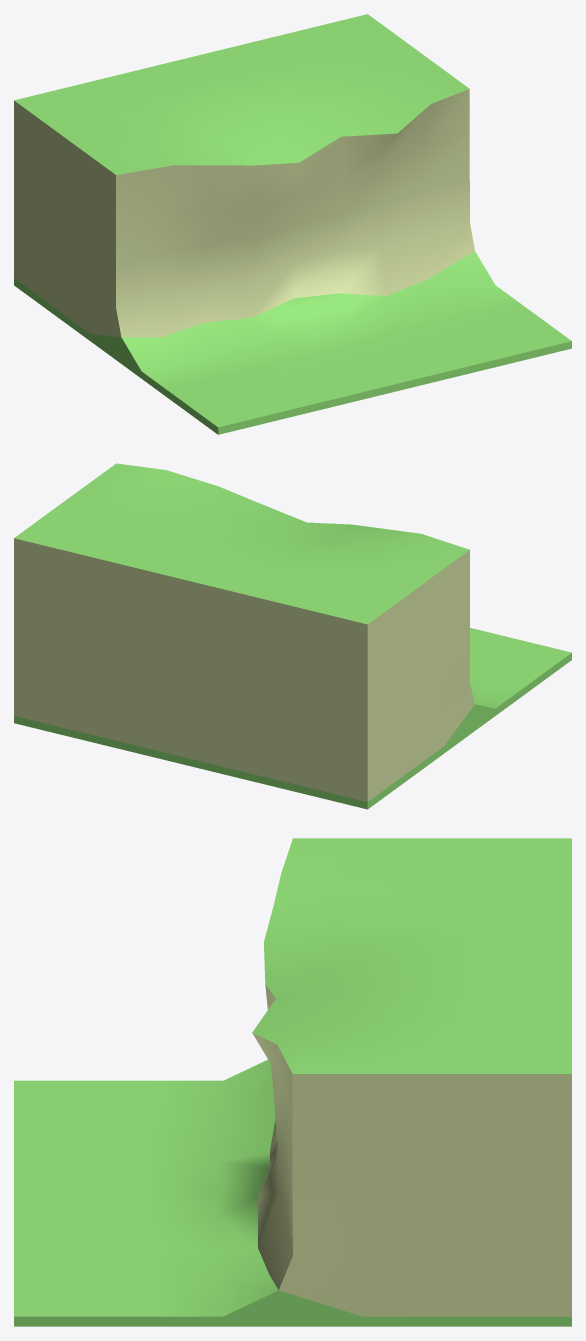
File: wall_straight_2_1.glb
3 views of the same model, one above another, from view 1: azimuth 30°, elevation 25°; view 2: azimuth 150°, elevation 25°; view 3: azimuth 270°, elevation 25° (orthographic). The views are drawn at different scales.
Parts seen in each view (by area): view 1: wall_straight_2; view 2: wall_straight_2; view 3: wall_straight_2.
Boxes of the visible parts, x1=… form: wall_straight_2: x1=14, y1=14, x2=571, y2=434; wall_straight_2: x1=14, y1=463, x2=571, y2=809; wall_straight_2: x1=14, y1=838, x2=571, y2=1326.
Size of the model in its own units: 2 by 1 by 2.
